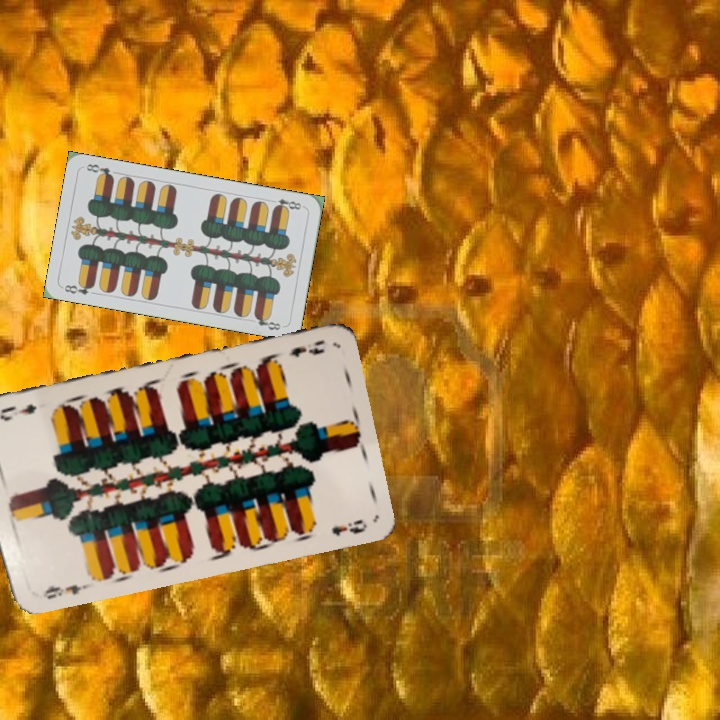E8: (266, 195, 307, 213), (60, 278, 97, 297)
E9: (39, 580, 89, 602), (284, 336, 327, 360)
